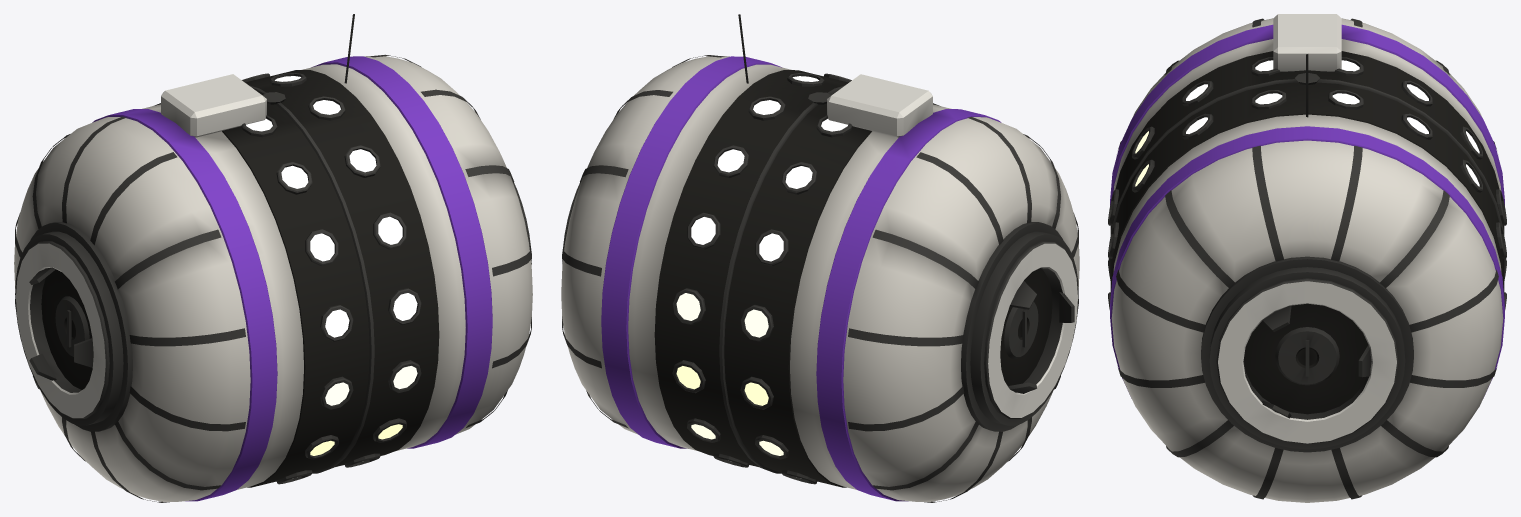
File: crew-quarters.glb
3 views of the same model, side by side, from view 1: azimuth 30°, elevation 25°; view 2: azimuth 150°, elevation 25°; view 3: azimuth 270°, elevation 25° (orthographic).
Visible parts, largest first — view 1: body, glow; view 2: body, glow; view 3: body, glow.
Boxes of the visible parts, x1,y1,x2,y2 form: body: (14,14,532,502); glow: (246,76,417,455); body: (561,14,1079,502); glow: (676,76,847,455); body: (1108,14,1506,502); glow: (1135,60,1479,186).
Bounding box in the file's own units: 5.33 × 4.79 × 4.08.
